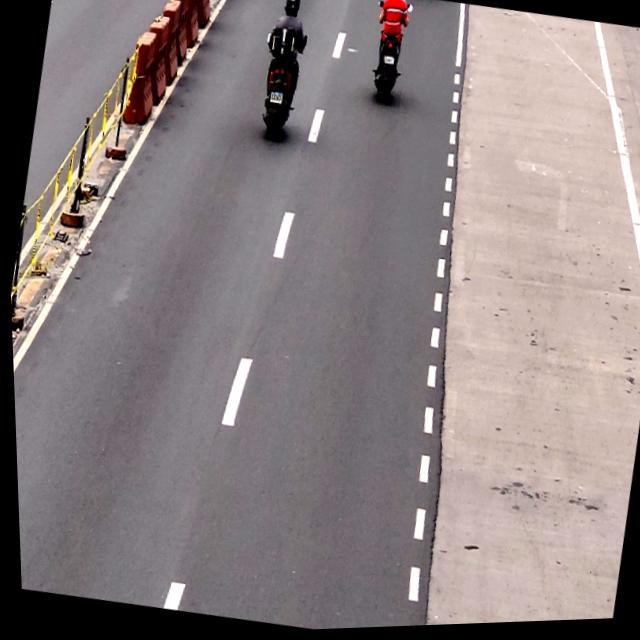License-Plate: (266, 92, 283, 107), (381, 56, 395, 70)
Motorcycle: (253, 0, 316, 148), (365, 0, 413, 105)
